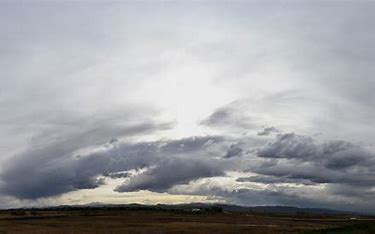Stratus: (9, 116, 372, 211)
